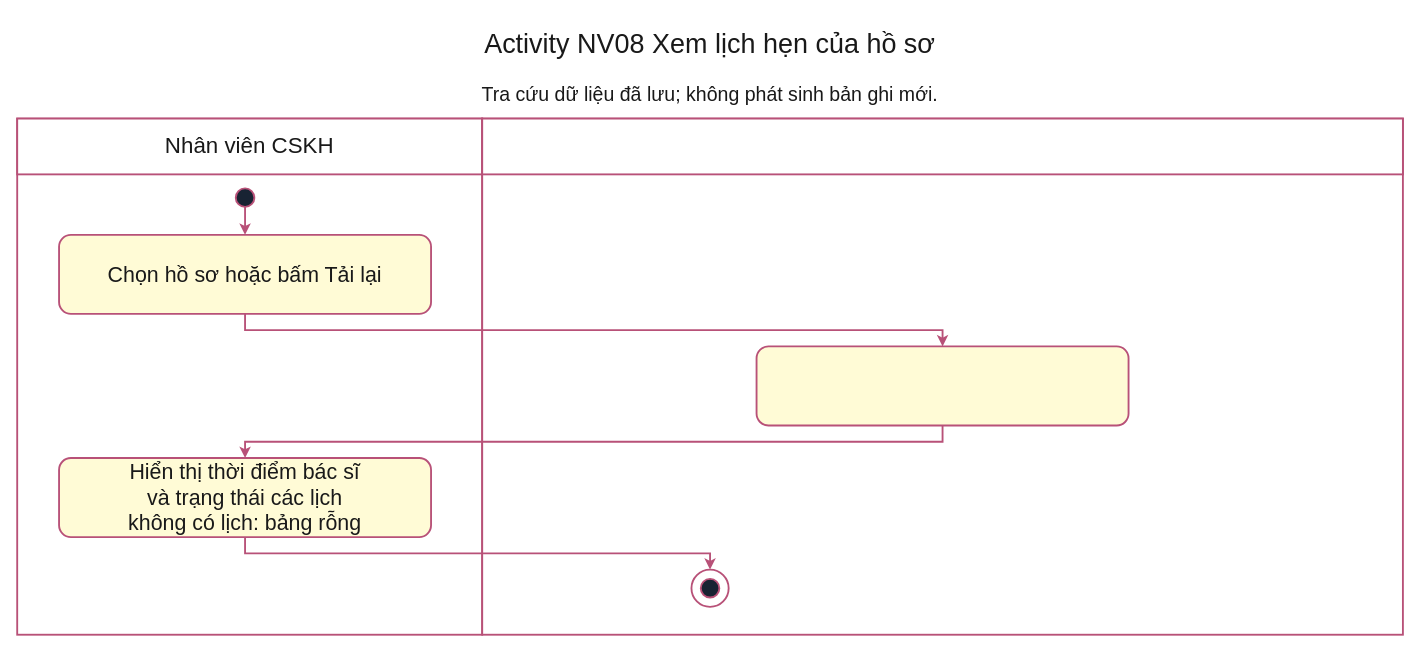
Some shapes in this 1419 by 651 pixel diagram are drawn without their labels. Each missing label, with the centre of its shape:
Đọc LichHen theo MaHS sắp xếp ThoiGian giảm dần: point (942, 385)
Ứng dụng và SQL Server: point (942, 146)
